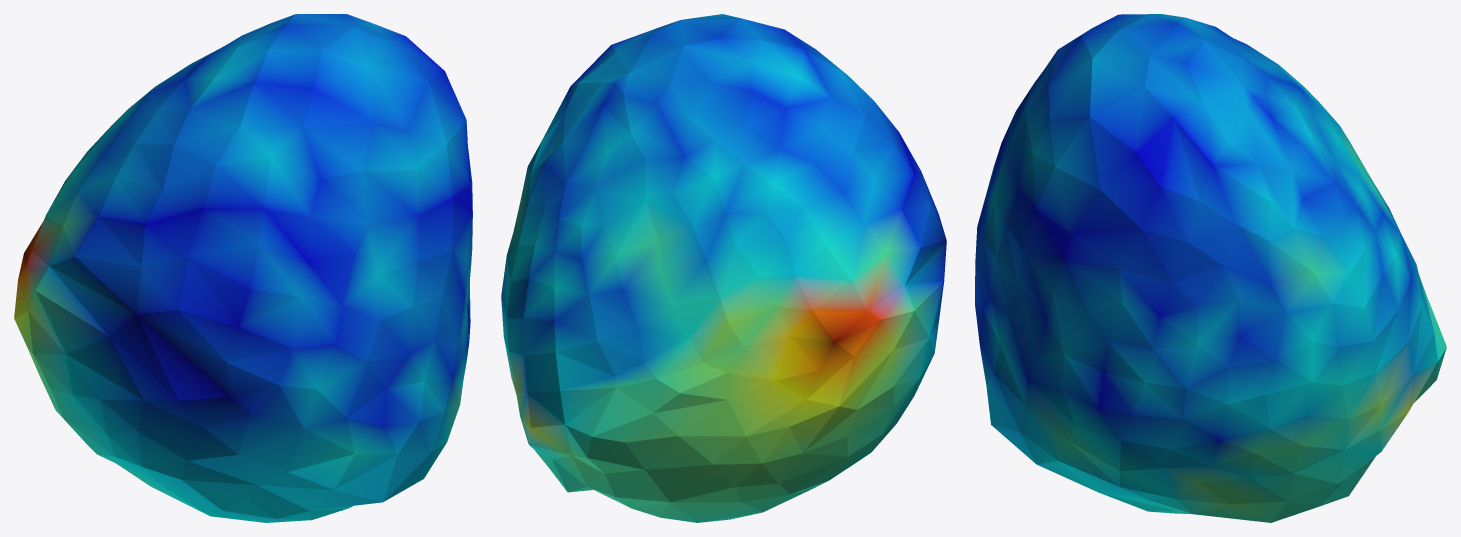
The model's file is heartwithColor107.obj.
3 renders of one model, left to right at view 1: azimuth 30°, elevation 25°; view 2: azimuth 150°, elevation 25°; view 3: azimuth 270°, elevation 25°, orthographic. The views are drawn at different scales.
Size of the model in its own units: 71.7 by 81.16 by 72.94.
